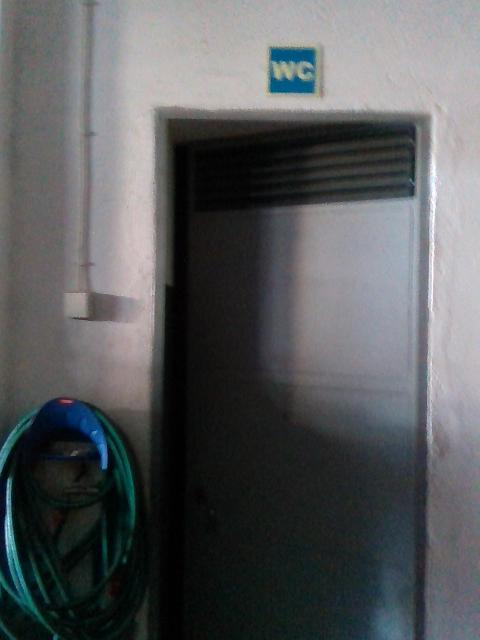closed_door: (147, 107, 432, 639)
